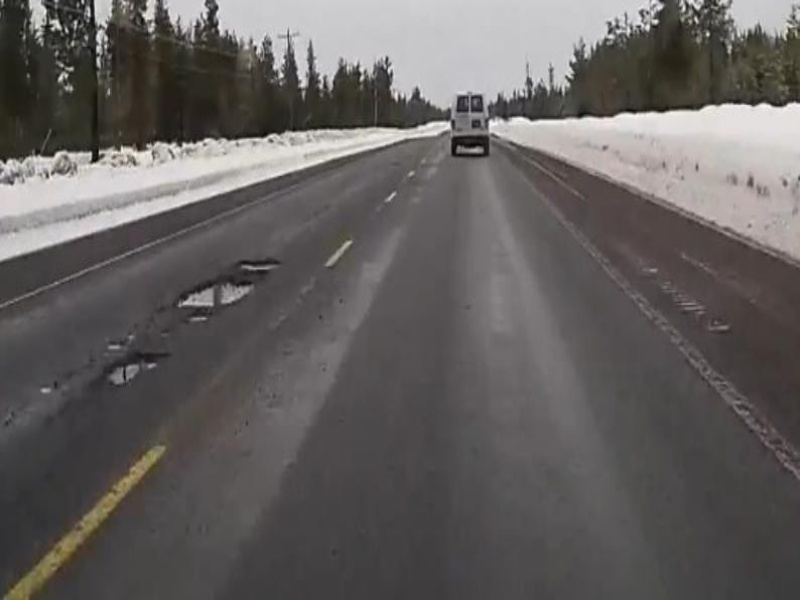pothole: (99, 343, 177, 390), (170, 278, 258, 308), (233, 257, 283, 273)
